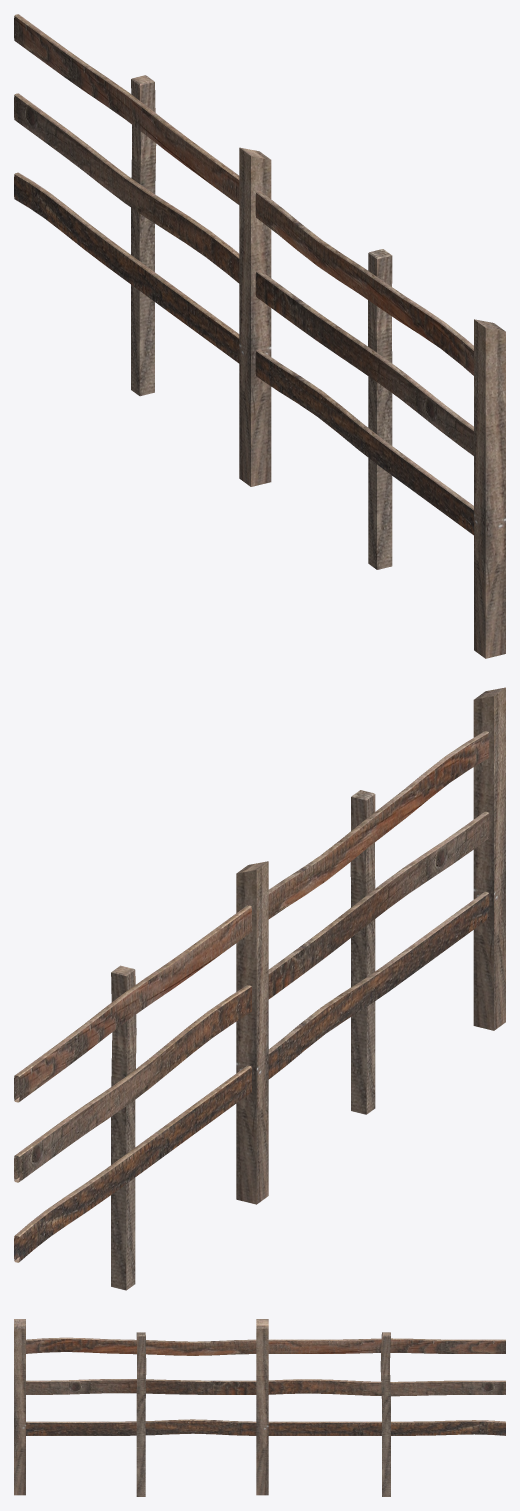
Rendered from fence3.fbx.
3 renders of one model, top to bottom at view 1: azimuth 30°, elevation 25°; view 2: azimuth 150°, elevation 25°; view 3: azimuth 270°, elevation 25°, orthographic. The views are drawn at different scales.
Parts seen in each view (by area): view 1: Fence without end.003; view 2: Fence without end.003; view 3: Fence without end.003.
Part boxes in pixels (bbox=[...]): Fence without end.003: bbox=[14, 14, 505, 658]; Fence without end.003: bbox=[14, 687, 505, 1290]; Fence without end.003: bbox=[14, 1319, 505, 1496].
Size of the model in its own units: 10.57 by 131 by 342.
1 material, 1 textured.
